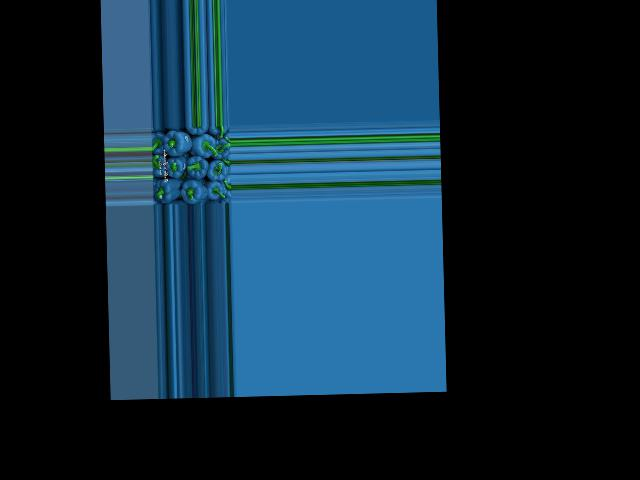bell_pepper: (151, 128, 167, 155)
